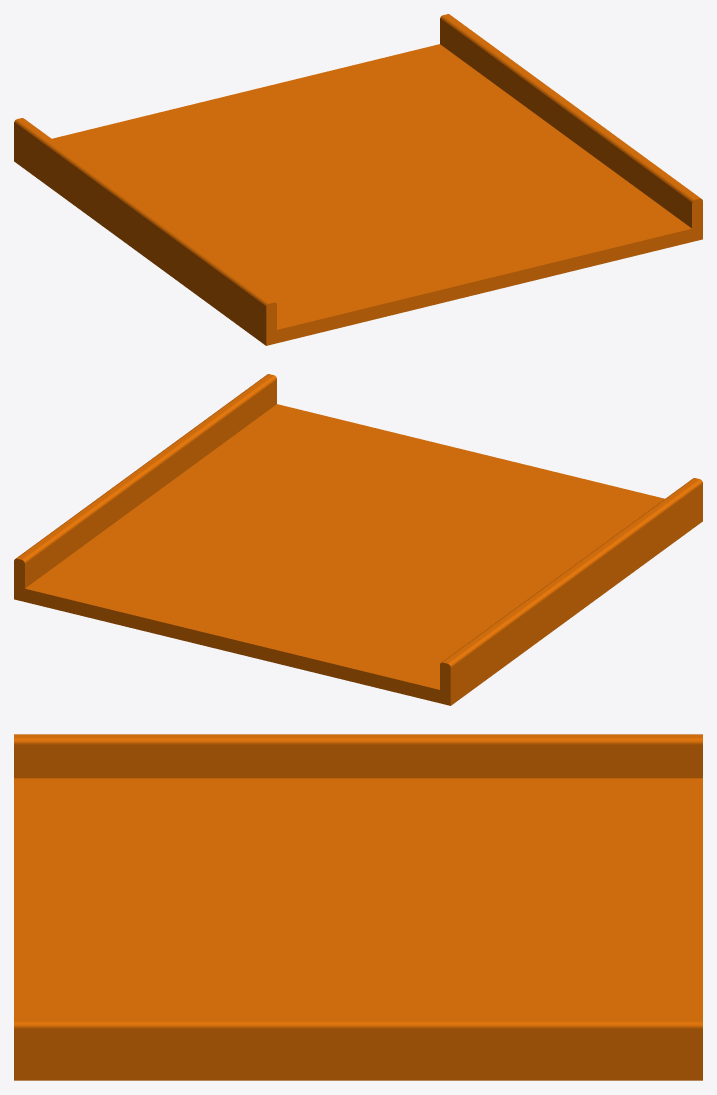
The model's file is TrackPiece.fbx.
3 renders of one model, top to bottom at view 1: azimuth 30°, elevation 25°; view 2: azimuth 150°, elevation 25°; view 3: azimuth 270°, elevation 25°, orthographic. The views are drawn at different scales.
Parts seen in each view (by area): view 1: TrackPiece; view 2: TrackPiece; view 3: TrackPiece.
Part boxes in pixels (bbox=[...]): TrackPiece: bbox=[14, 14, 702, 345]; TrackPiece: bbox=[14, 374, 702, 705]; TrackPiece: bbox=[14, 734, 702, 1080].
Size of the model in its own units: 200 by 18.16 by 200.
